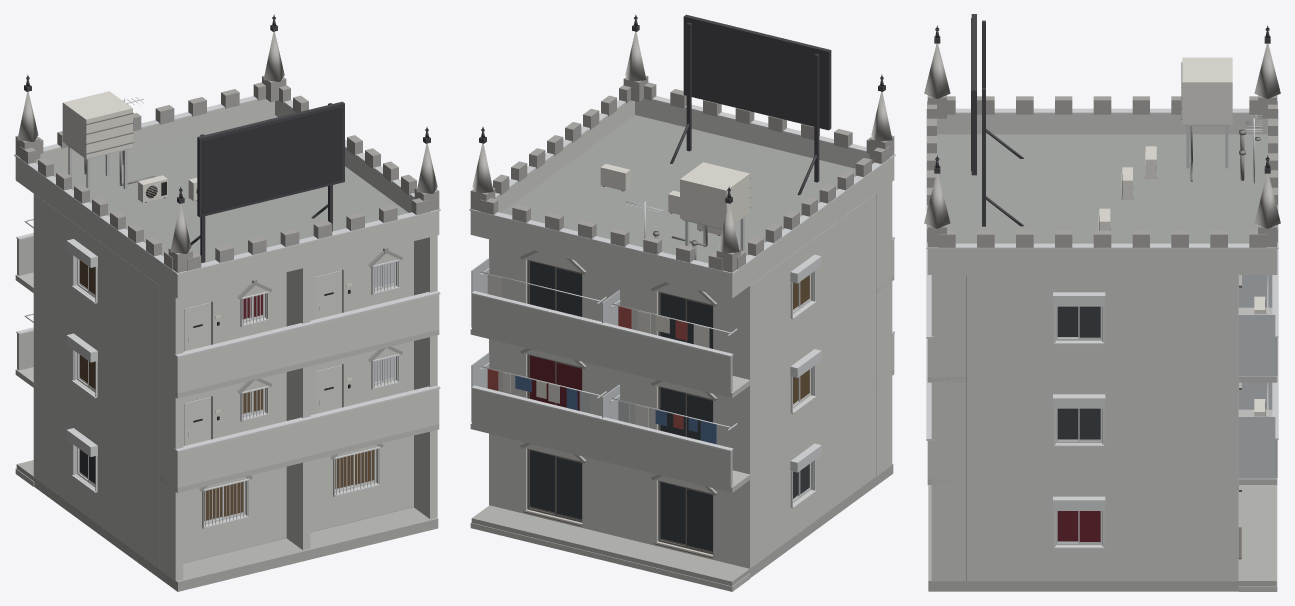
Rendered from blk_outer1_0_5.glb.
The picture shows the model from 3 angles, left to right: view 1: azimuth 30°, elevation 25°; view 2: azimuth 150°, elevation 25°; view 3: azimuth 270°, elevation 25°; orthographic projection. The views are drawn at different scales.
Visible parts, largest first — view 1: blk_outer1_0_5; view 2: blk_outer1_0_5; view 3: blk_outer1_0_5.
Boxes of the visible parts, box(x1,y1,x2,y2) form: blk_outer1_0_5: box(14, 14, 440, 591); blk_outer1_0_5: box(469, 14, 895, 591); blk_outer1_0_5: box(924, 14, 1280, 591).
Bounding box in the file's own units: 8.86 × 13.13 × 9.18.
